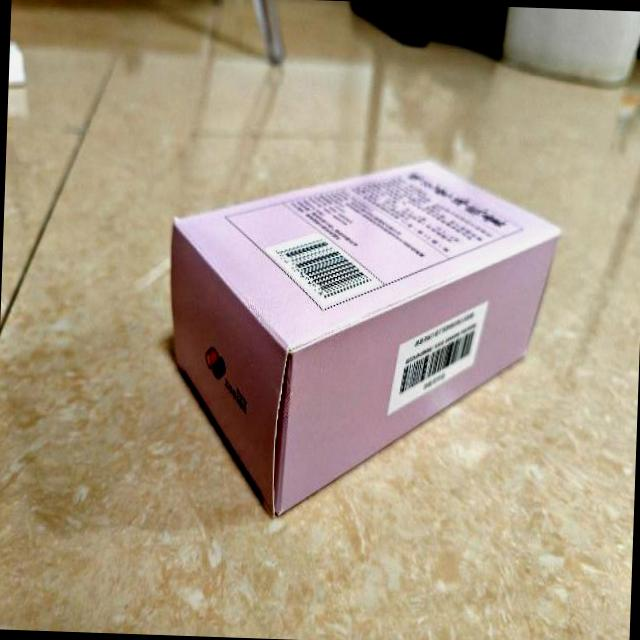box: (159, 149, 562, 526)
